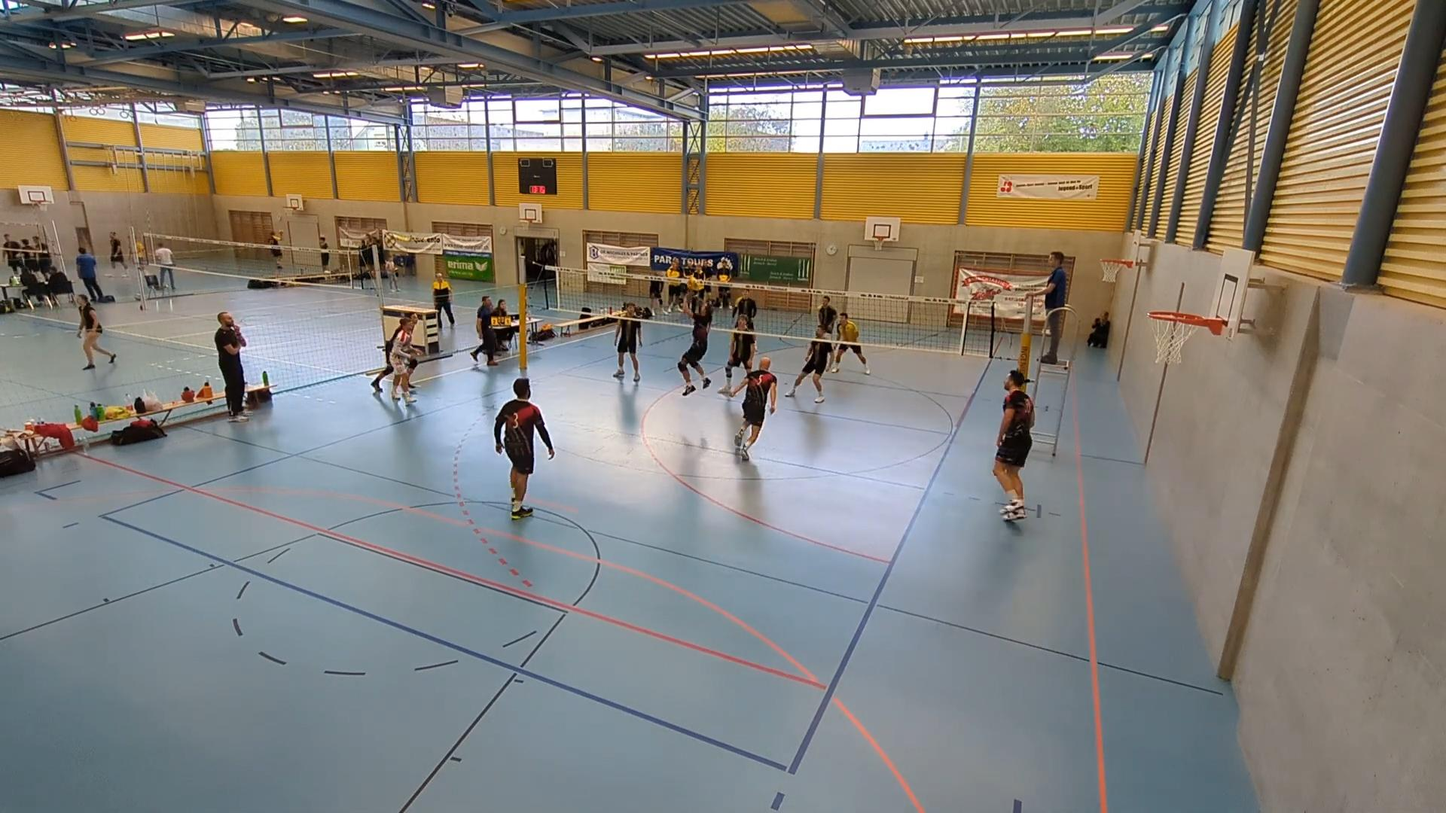alzata: (677, 290, 716, 398)
